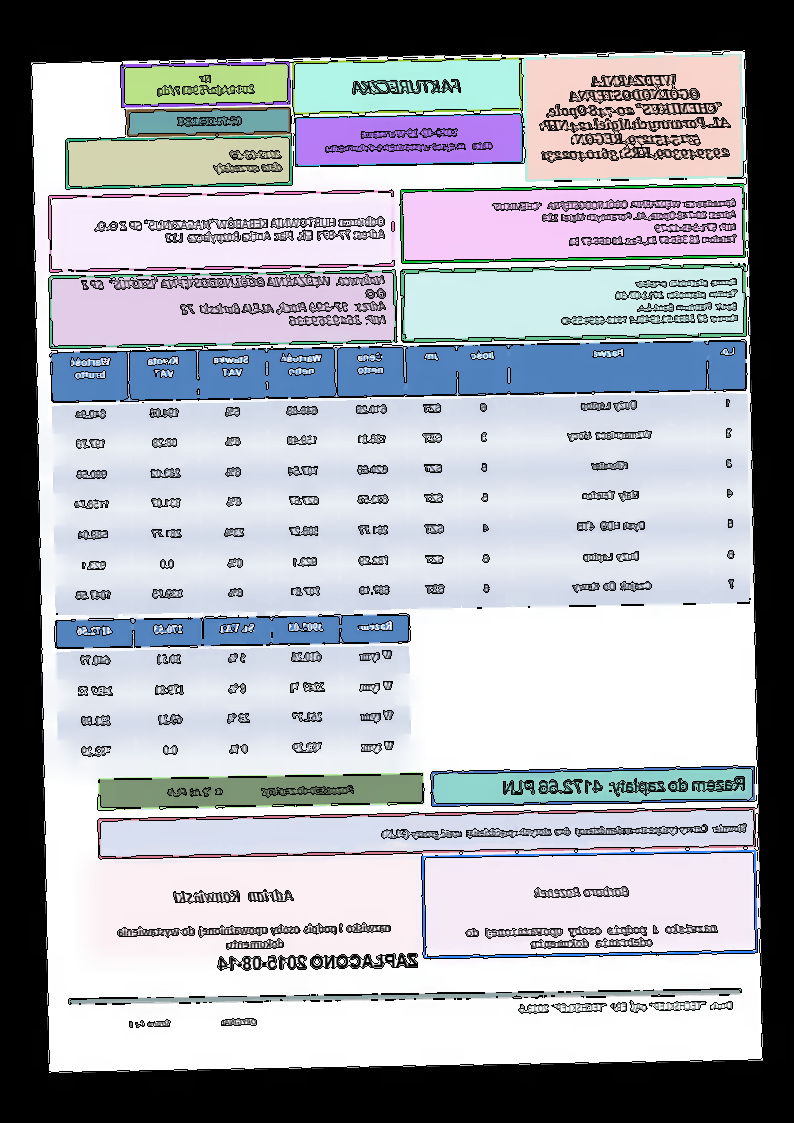Table: (49, 339, 753, 618), (53, 612, 414, 773)
TextBox: (79, 270, 389, 333), (535, 72, 734, 165), (488, 195, 740, 252), (92, 212, 388, 249), (113, 918, 394, 952), (561, 274, 739, 327), (463, 918, 719, 952), (380, 820, 749, 843), (501, 772, 747, 800), (323, 123, 496, 156), (217, 949, 421, 974), (514, 995, 736, 1016), (166, 781, 358, 802), (154, 70, 257, 99), (211, 144, 285, 177), (172, 887, 297, 906), (351, 75, 464, 96), (126, 1014, 258, 1030), (530, 883, 632, 901), (174, 112, 245, 128)
